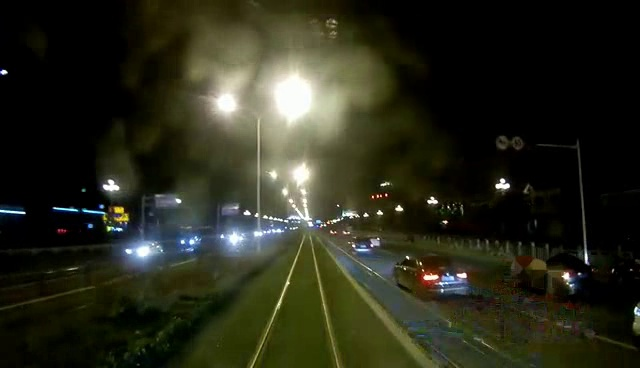car: (393, 252, 476, 299), (349, 237, 379, 257)
